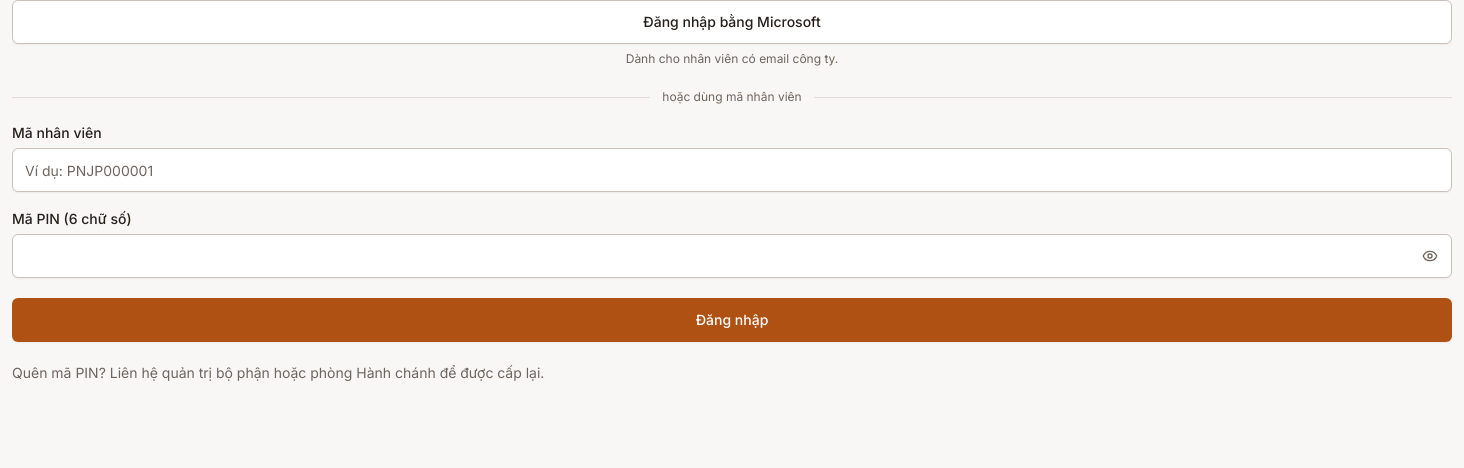
LoginForm › shows the invalid-credentials message and clears the PIN
Step 1. Type "PNJP000001" into the field labelled "Mã nhân viên" → (732,170), box x1=12 y1=148 x2=1452 y2=192
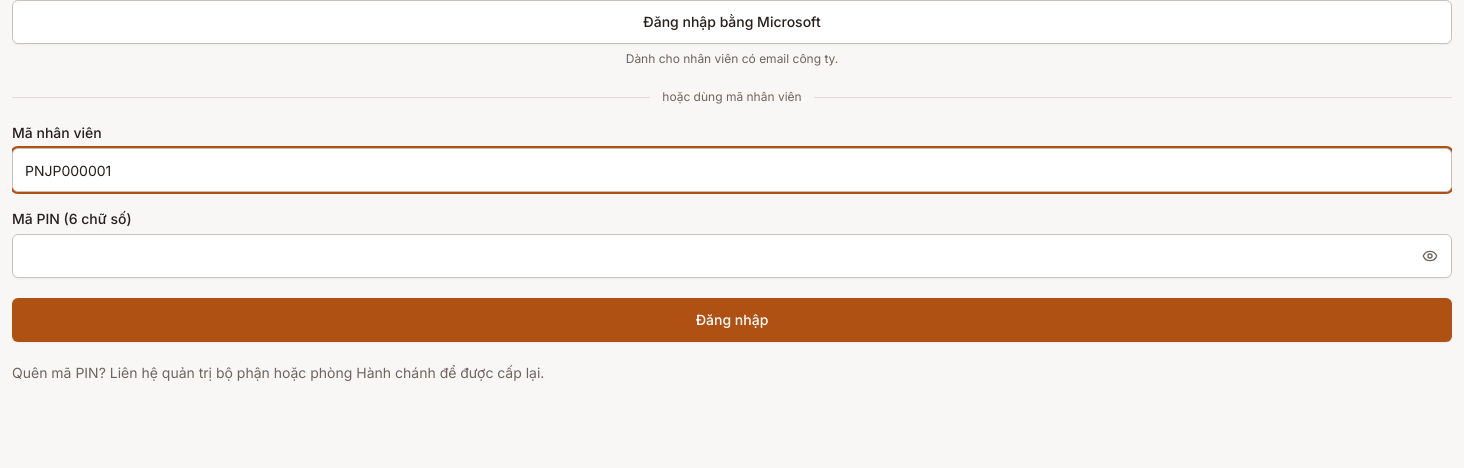
Step 2. Type "000000" into the password field labelled "Mã PIN (6 chữ số)" → (732,256), box x1=12 y1=234 x2=1452 y2=278
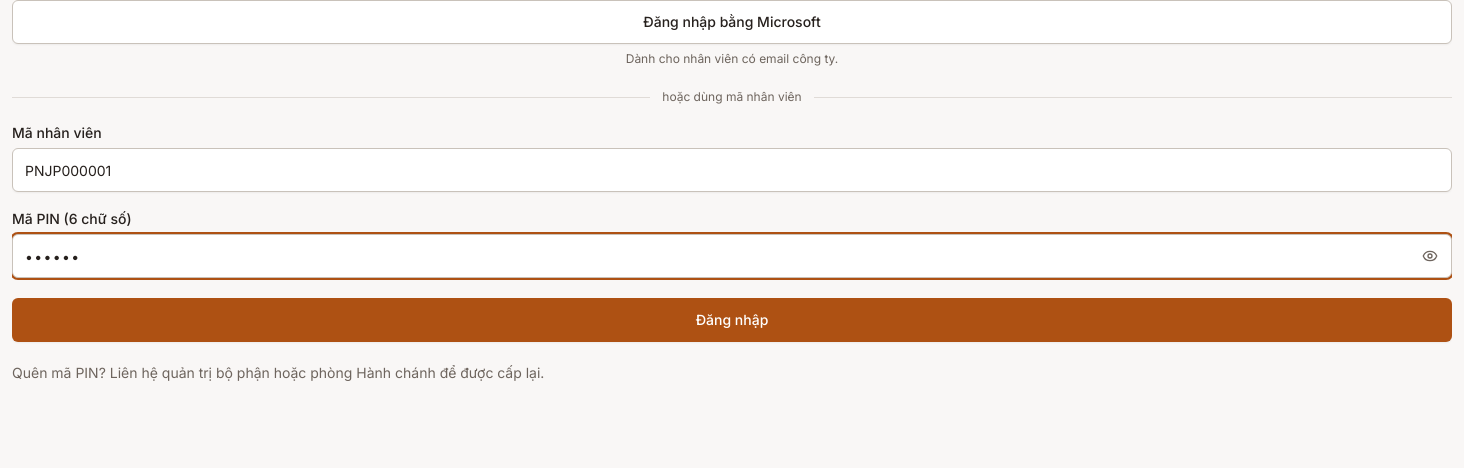
Step 3. Click the button "Đăng nhập" → (732,320), box x1=12 y1=298 x2=1452 y2=342
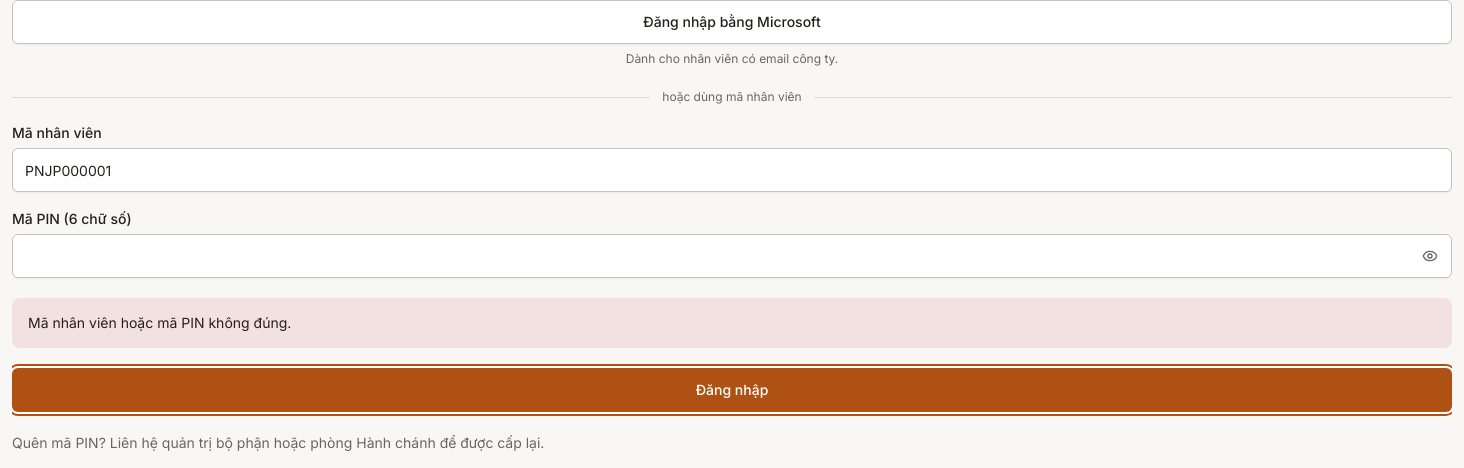
Expected: the message reads "Mã nhân viên hoặc mã PIN không đúng.", x1=28 y1=314 x2=291 y2=331
Expected: the password field labelled "Mã PIN (6 chữ số)" is empty, x1=12 y1=234 x2=1452 y2=278
